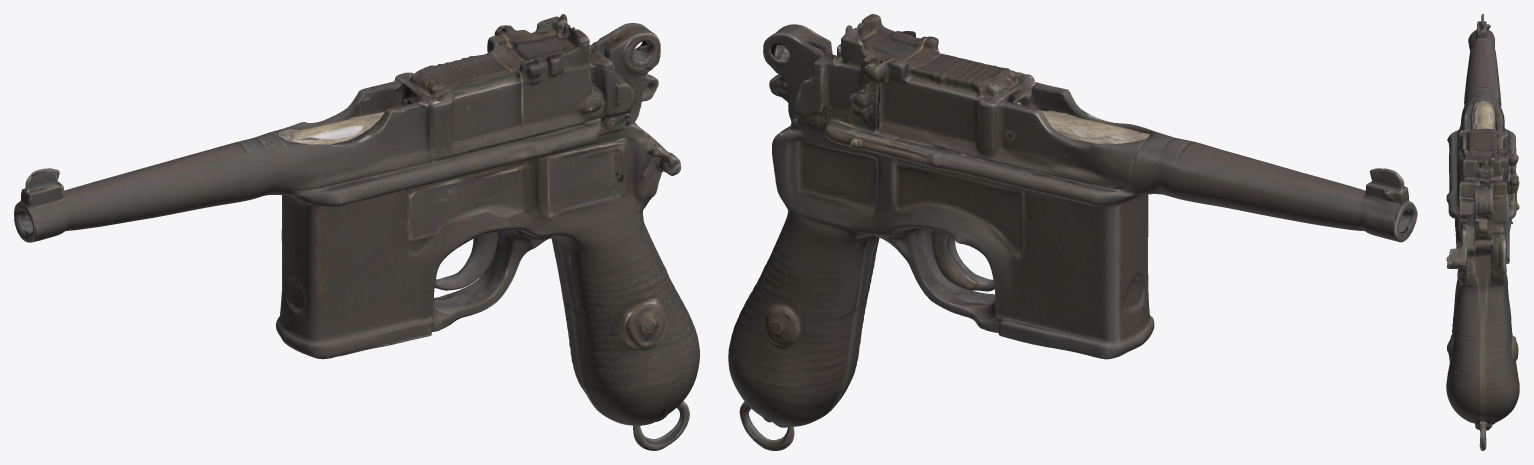
3 views of the same model, side by side, from view 1: azimuth 30°, elevation 25°; view 2: azimuth 150°, elevation 25°; view 3: azimuth 270°, elevation 25° (orthographic). The views are drawn at different scales.
Size of the model in its own units: 1.99 by 1.29 by 0.3207.
Materials: 1 (1 with a texture image).
